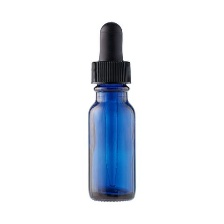bottle: (81, 57, 144, 207)
